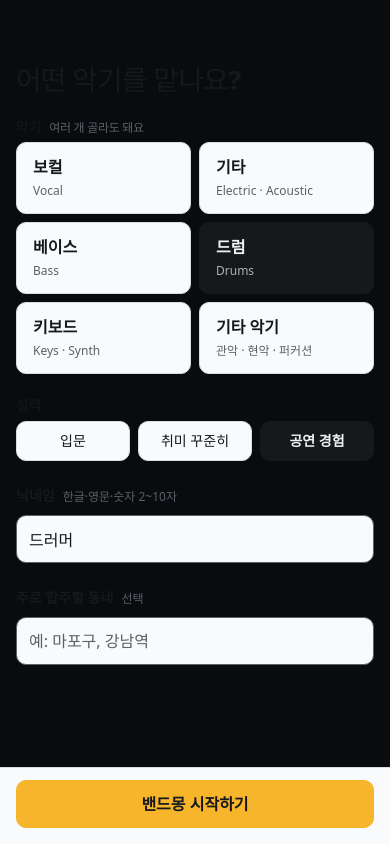
Scenario: 온보딩 › 서버가 거절하면 그 문구를 보여준다
Click the button "밴드몽 시작하기". click: {"x": 195, "y": 804}
box: x1=16 y1=780 x2=374 y2=828
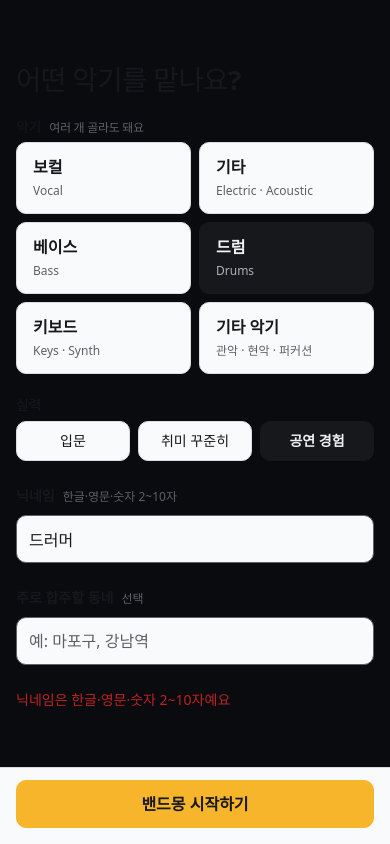
Now the message reads "닉네임은 한글·영문·숫자 2~10자예요", box x1=16 y1=690 x2=230 y2=708
